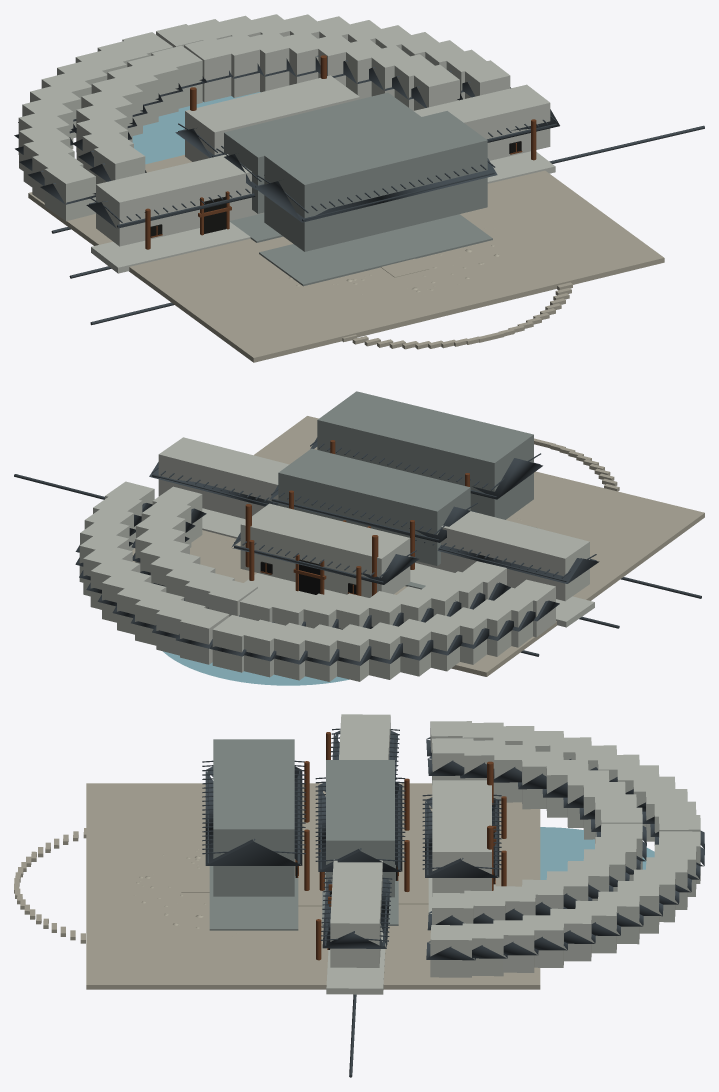
File: hakka-village.fbx
The picture shows the model from 3 angles, top to bottom: view 1: azimuth 30°, elevation 25°; view 2: azimuth 150°, elevation 25°; view 3: azimuth 270°, elevation 25°; orthographic projection. The views are drawn at different scales.
Visible parts, largest first — view 1: HakkaWeilongwu_Ring_Wall (×42), HakkaWeilongwu_Foundation, HakkaWeilongwu_UpperHall_Wall, HakkaWeilongwu_RightWing_Wall, HakkaWeilongwu_UpperHall_Plinth, HakkaWeilongwu_MiddleHall_Wall, HakkaWeilongwu_LowerHall_Wall, HakkaWeilongwu_LeftWing_Wall, HakkaWeilongwu_RightWing_Plinth, HakkaWeilongwu_Pond_Water, HakkaWeilongwu_UpperHall_HardMountainRoof, HakkaWeilongwu_LeftWing_Plinth (+3 smaller); view 2: HakkaWeilongwu_Ring_Wall (×42), HakkaWeilongwu_Foundation, HakkaWeilongwu_UpperHall_Wall, HakkaWeilongwu_MiddleHall_Wall, HakkaWeilongwu_LowerHall_Wall, HakkaWeilongwu_RightWing_Wall, HakkaWeilongwu_LeftWing_Wall, HakkaWeilongwu_Pond_Water, HakkaWeilongwu_RightWing_Plinth, HakkaWeilongwu_RightWing_HardMountainRoof, HakkaWeilongwu_UpperHall_HardMountainRoof, HakkaWeilongwu_LeftWing_Plinth (+7 smaller); view 3: HakkaWeilongwu_Foundation, HakkaWeilongwu_Ring_Wall (×42), HakkaWeilongwu_UpperHall_Wall, HakkaWeilongwu_MiddleHall_Wall, HakkaWeilongwu_LowerHall_Wall, HakkaWeilongwu_LeftWing_Wall, HakkaWeilongwu_UpperHall_Plinth, HakkaWeilongwu_UpperHall_HardMountainRoof, HakkaWeilongwu_RightWing_Wall, HakkaWeilongwu_Pond_Water, HakkaWeilongwu_LeftWing_Plinth, HakkaWeilongwu_LowerHall_HardMountainRoof (+4 smaller).
Boxes of the visible parts, <box> form: HakkaWeilongwu_Ring_Wall (×42): <box>18,14,510,221</box>; HakkaWeilongwu_Foundation: <box>28,155,664,362</box>; HakkaWeilongwu_UpperHall_Wall: <box>264,111,487,251</box>; HakkaWeilongwu_RightWing_Wall: <box>96,154,263,246</box>; HakkaWeilongwu_UpperHall_Plinth: <box>259,214,492,286</box>; HakkaWeilongwu_MiddleHall_Wall: <box>224,92,420,213</box>; HakkaWeilongwu_LowerHall_Wall: <box>185,75,359,161</box>; HakkaWeilongwu_LeftWing_Wall: <box>414,84,550,160</box>; HakkaWeilongwu_RightWing_Plinth: <box>91,222,250,273</box>; HakkaWeilongwu_Pond_Water: <box>132,92,260,164</box>; HakkaWeilongwu_UpperHall_HardMountainRoof: <box>254,158,497,222</box>; HakkaWeilongwu_LeftWing_Plinth: <box>487,151,555,183</box>; HakkaWeilongwu_Ring_Wall (×42): <box>79,481,555,681</box>; HakkaWeilongwu_Foundation: <box>132,416,704,676</box>; HakkaWeilongwu_UpperHall_Wall: <box>317,391,533,519</box>; HakkaWeilongwu_MiddleHall_Wall: <box>278,448,470,565</box>; HakkaWeilongwu_LowerHall_Wall: <box>240,503,410,597</box>; HakkaWeilongwu_RightWing_Wall: <box>415,511,589,601</box>; HakkaWeilongwu_LeftWing_Wall: <box>158,437,289,519</box>; HakkaWeilongwu_Pond_Water: <box>163,651,348,685</box>; HakkaWeilongwu_RightWing_Plinth: <box>410,563,594,627</box>; HakkaWeilongwu_RightWing_HardMountainRoof: <box>437,545,599,583</box>; HakkaWeilongwu_UpperHall_HardMountainRoof: <box>310,437,542,499</box>; HakkaWeilongwu_LeftWing_Plinth: <box>202,508,245,538</box>; HakkaWeilongwu_Foundation: <box>86,783,540,989</box>; HakkaWeilongwu_Ring_Wall (×42): <box>430,721,700,977</box>; HakkaWeilongwu_UpperHall_Wall: <box>213,739,294,896</box>; HakkaWeilongwu_MiddleHall_Wall: <box>326,760,394,897</box>; HakkaWeilongwu_LowerHall_Wall: <box>432,780,491,896</box>; HakkaWeilongwu_LeftWing_Wall: <box>330,859,382,967</box>; HakkaWeilongwu_UpperHall_Plinth: <box>209,859,298,930</box>; HakkaWeilongwu_UpperHall_HardMountainRoof: <box>205,766,302,865</box>; HakkaWeilongwu_RightWing_Wall: <box>339,714,390,759</box>; HakkaWeilongwu_Pond_Water: <box>540,827,654,879</box>; HakkaWeilongwu_LeftWing_Plinth: <box>326,928,385,994</box>; HakkaWeilongwu_LowerHall_HardMountainRoof: <box>425,797,499,877</box>.
Bounding box in the file's own units: 49.09 × 7.65 × 44.14.
